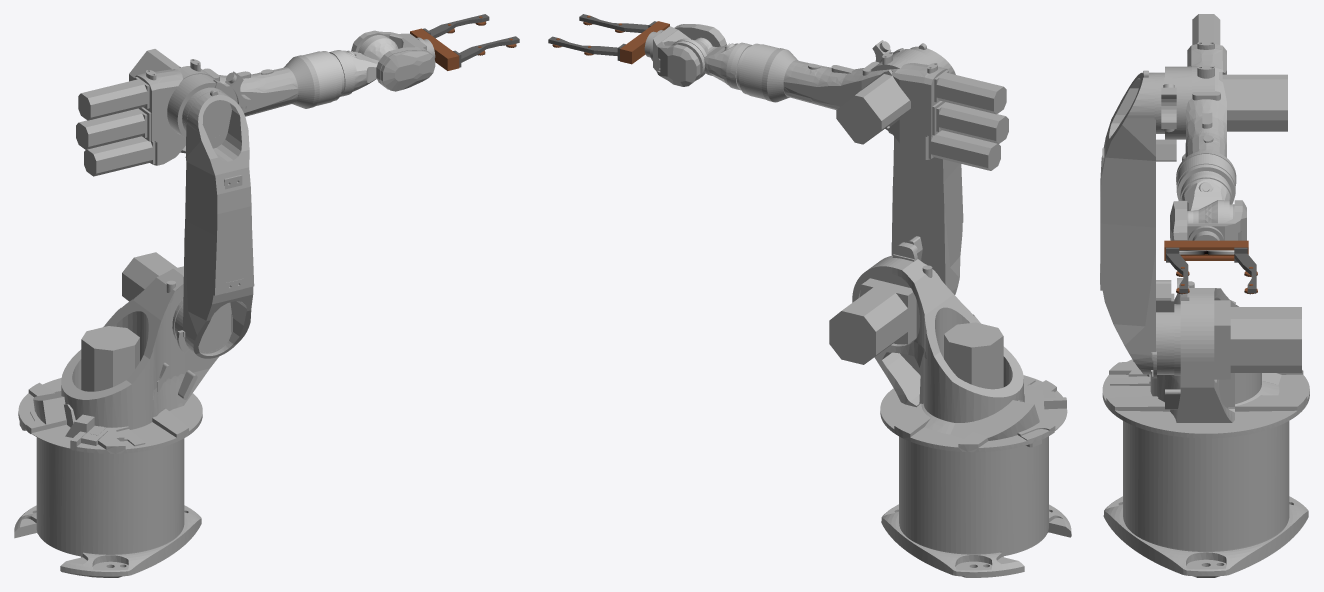
File: Alle_teile.dae
3 views of the same model, side by side, from view 1: azimuth 30°, elevation 25°; view 2: azimuth 150°, elevation 25°; view 3: azimuth 270°, elevation 25° (orthographic). The views are drawn at different scales.
Parts seen in each view (by area): view 1: Stand, Arm1, Arm2, Arm3, Motor_unten, Arm4, Arm5, Minimotor1, Minimotor2, Minimotor3, Motor_mitte, Motor_oben (+1 smaller); view 2: Arm1, Stand, Arm3, Arm2, Motor_mitte, Motor_unten, Arm4, Motor_oben, Arm5, Minimotor1, Minimotor2, Minimotor3 (+1 smaller); view 3: Stand, Arm2, Arm1, Arm3, Motor_mitte, Motor_oben, Arm4, Arm5, Greifer, Minimotor1, Arm_rechts, Arm_links.
Boxes of the visible parts, left/top/right/bottom form: Stand: left=14, top=437, right=201, bottom=577; Arm1: left=18, top=266, right=218, bottom=453; Arm2: left=174, top=89, right=254, bottom=358; Arm3: left=134, top=55, right=319, bottom=165; Motor_unten: left=81, top=326, right=139, bottom=391; Arm4: left=303, top=35, right=398, bottom=106; Arm5: left=351, top=30, right=435, bottom=91; Minimotor1: left=78, top=77, right=148, bottom=120; Minimotor2: left=76, top=108, right=146, bottom=149; Minimotor3: left=84, top=136, right=154, bottom=176; Motor_mitte: left=122, top=252, right=176, bottom=301; Motor_oben: left=129, top=49, right=180, bottom=81; Arm1: left=852, top=242, right=1067, bottom=452; Stand: left=881, top=436, right=1071, bottom=577; Arm3: left=761, top=40, right=947, bottom=159; Arm2: left=891, top=43, right=963, bottom=294; Motor_mitte: left=829, top=283, right=909, bottom=364; Motor_unten: left=944, top=322, right=1003, bottom=389; Arm4: left=672, top=38, right=778, bottom=99; Motor_oben: left=836, top=69, right=913, bottom=144; Arm5: left=644, top=24, right=726, bottom=86; Minimotor1: left=935, top=70, right=1006, bottom=114; Minimotor2: left=937, top=102, right=1008, bottom=143; Minimotor3: left=929, top=130, right=1000, bottom=170; Stand: left=1103, top=421, right=1308, bottom=577; Arm2: left=1100, top=70, right=1176, bottom=378; Arm1: left=1102, top=278, right=1309, bottom=438; Arm3: left=1161, top=41, right=1236, bottom=185; Motor_mitte: left=1226, top=300, right=1301, bottom=379; Motor_oben: left=1220, top=72, right=1287, bottom=131; Arm4: left=1176, top=154, right=1235, bottom=223; Arm5: left=1170, top=200, right=1246, bottom=240; Greifer: left=1164, top=240, right=1248, bottom=260; Minimotor1: left=1192, top=14, right=1220, bottom=44; Arm_rechts: left=1166, top=247, right=1188, bottom=293; Arm_links: left=1234, top=247, right=1256, bottom=293.
Size of the model in its own units: 16.13 by 5.46 by 14.7.
